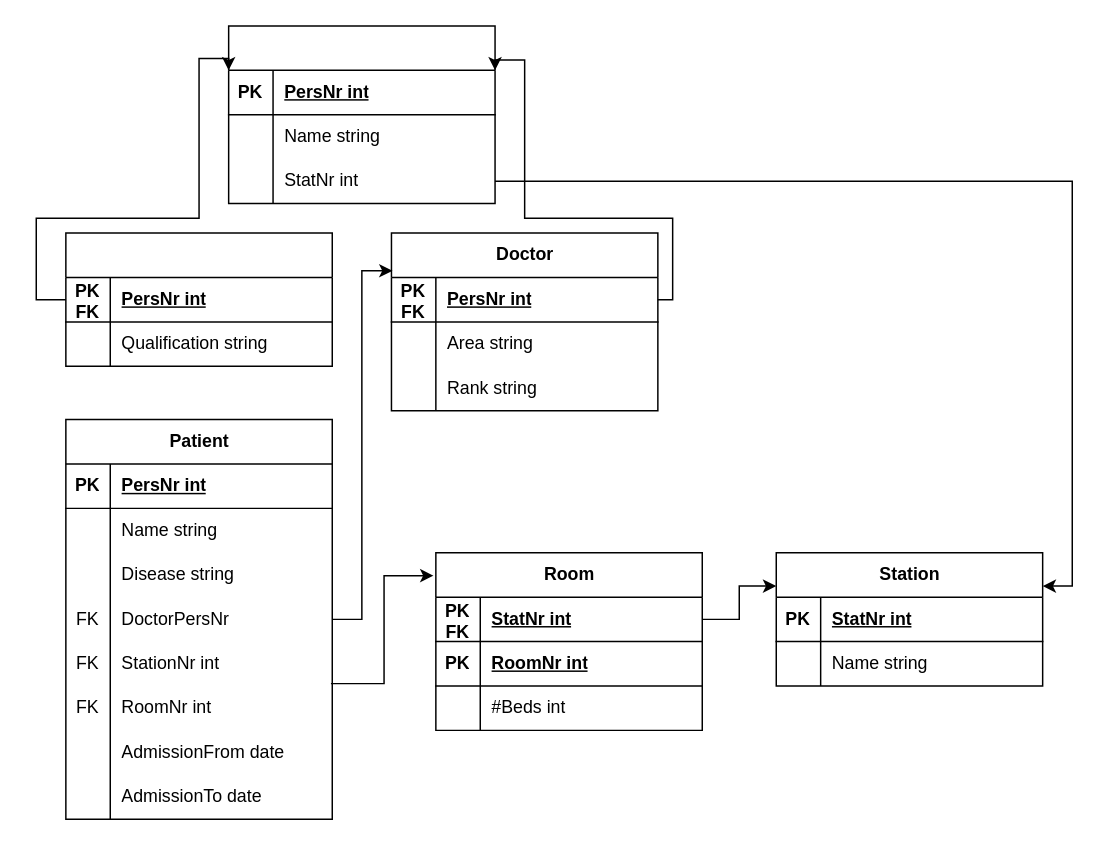
The diagram is 1110 pixels wide and 845 high, and some of its shapes have lost their labels. The shapes that lost their labels are listed below. From the top down, each one's box as (x1, y1, x2, y2) in pixels, then its label:
(227, 24, 495, 204): StationPersonell
(64, 232, 332, 366): Caregiver
